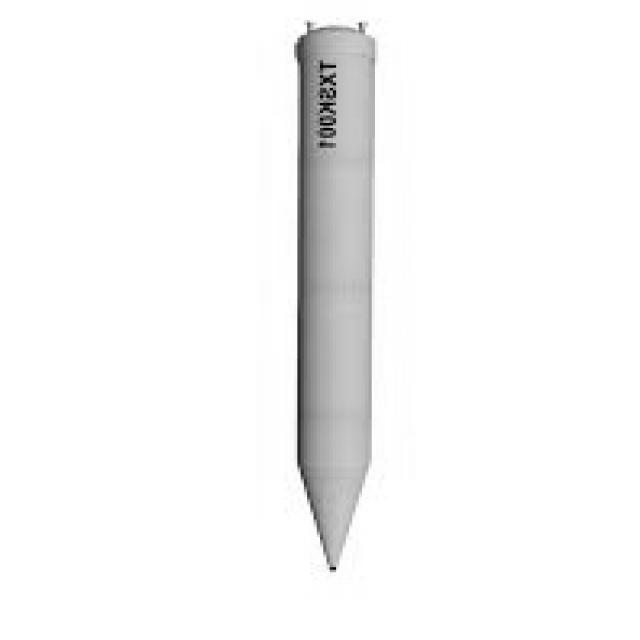Missile: (269, 16, 391, 577)
